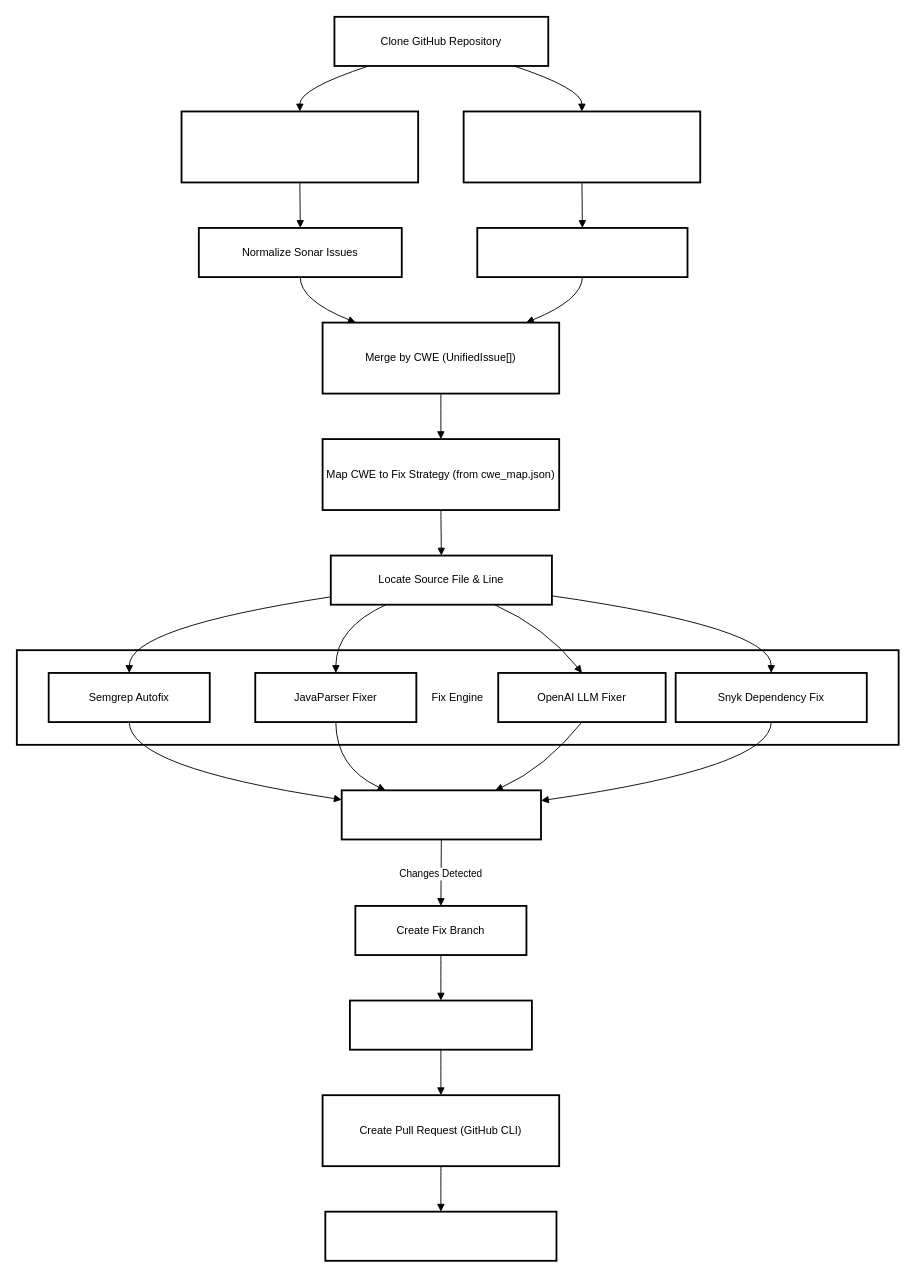
Image size: 915x1277. Some labels were removed from this diagram. The shapes that lost their labels are listed below. From the top down, each one's centre as x and y in pixels, then its label:
point 299,146: Fetch SonarQube Report (JSON)
point 581,146: Fetch Fortify Scan Results (FPR/XML/JSON)
point 582,252: Normalize Fortify Issues
point 440,814: Check for Git Changes
point 440,1024: Commit Fixed Code
point 440,1235: Notify Reviewer for Review
